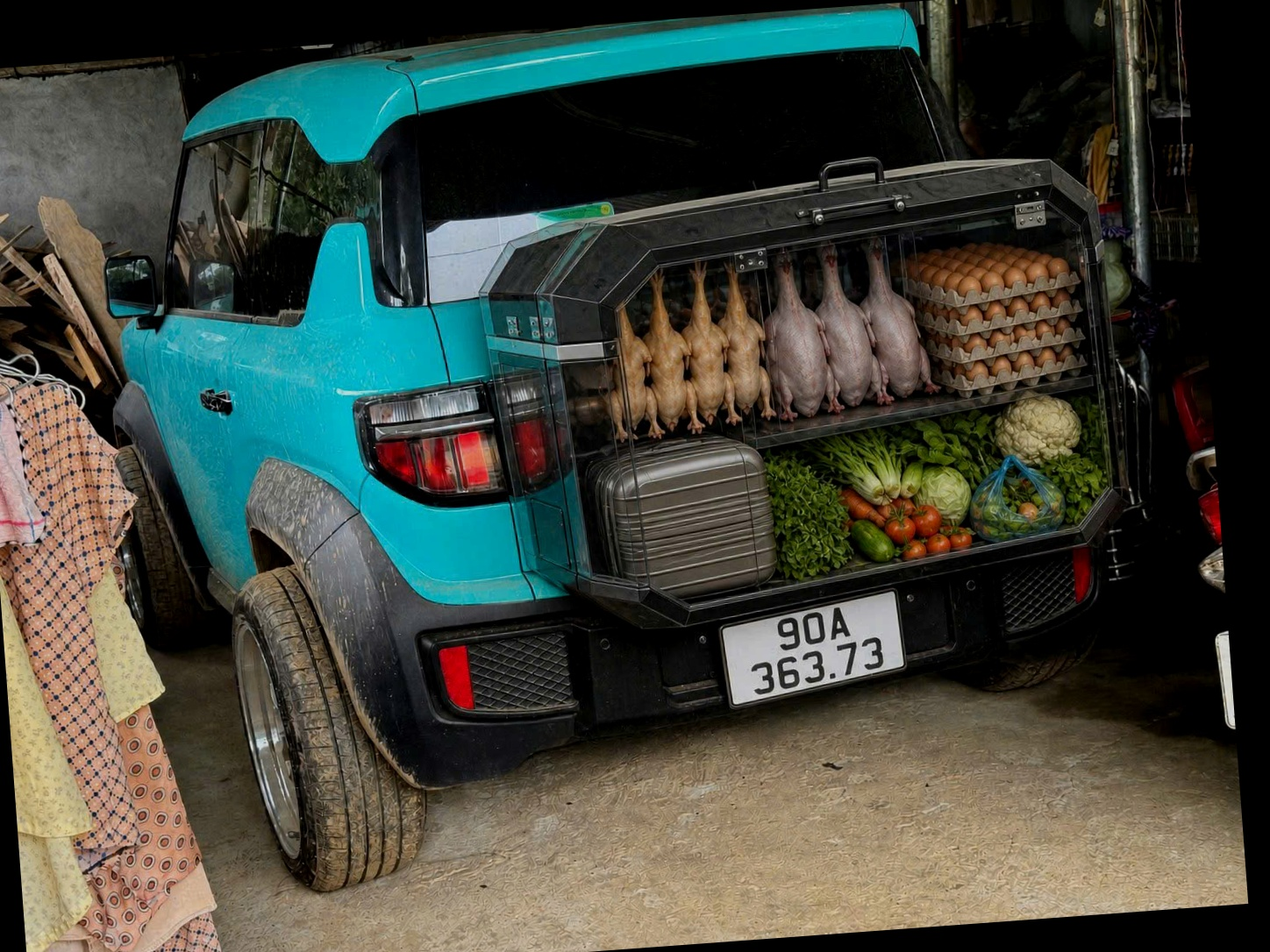Bien-so: (778, 581, 972, 684)
